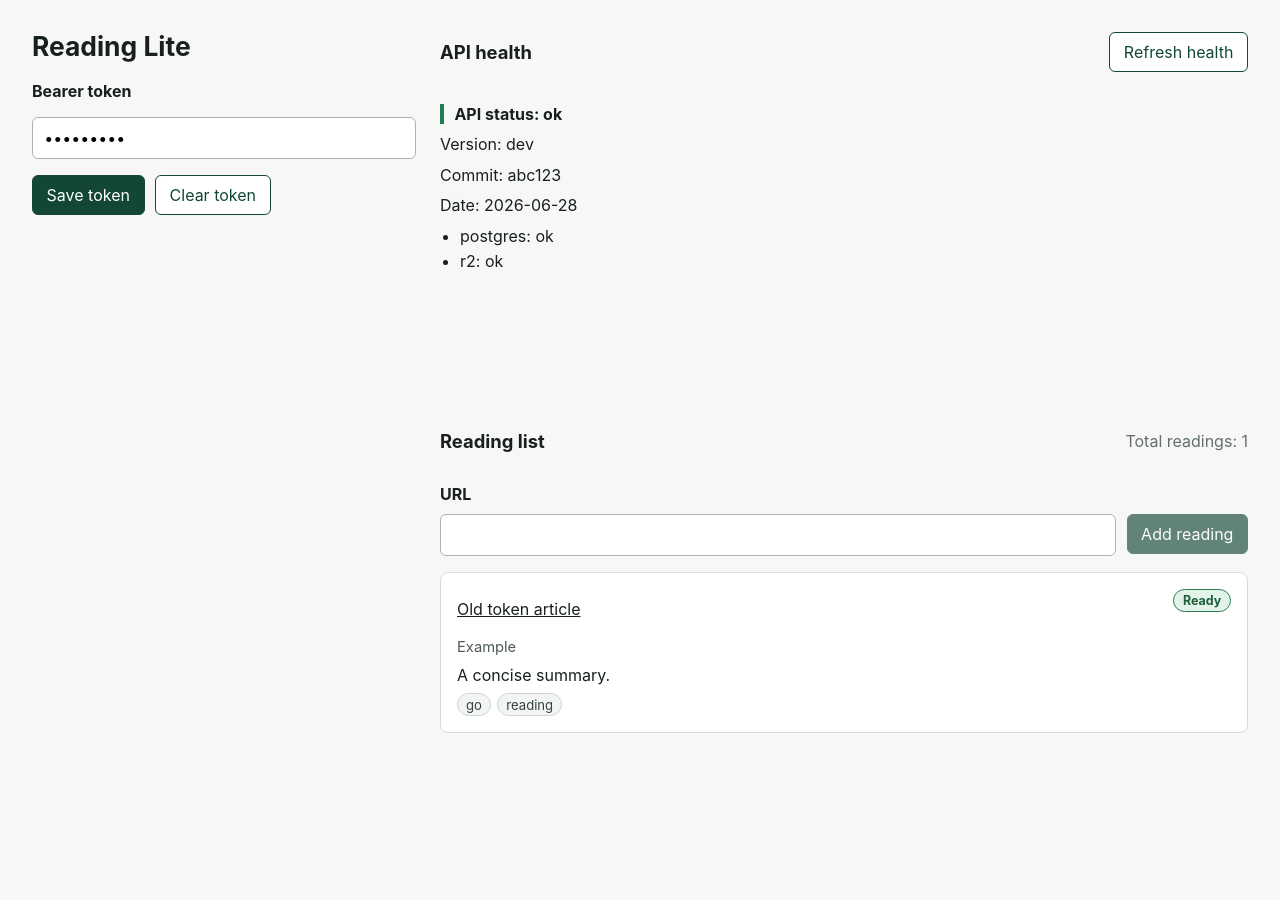
Scenario: App › saves a changed token, trims it, and reloads readings with the new token
The image size is (1280, 900).
Expected: the button "Old token article" is shown, [457,589,580,629]
Type "  new-token  " into the password field labelled "Bearer token" at (224, 138), box [32,117,416,159]
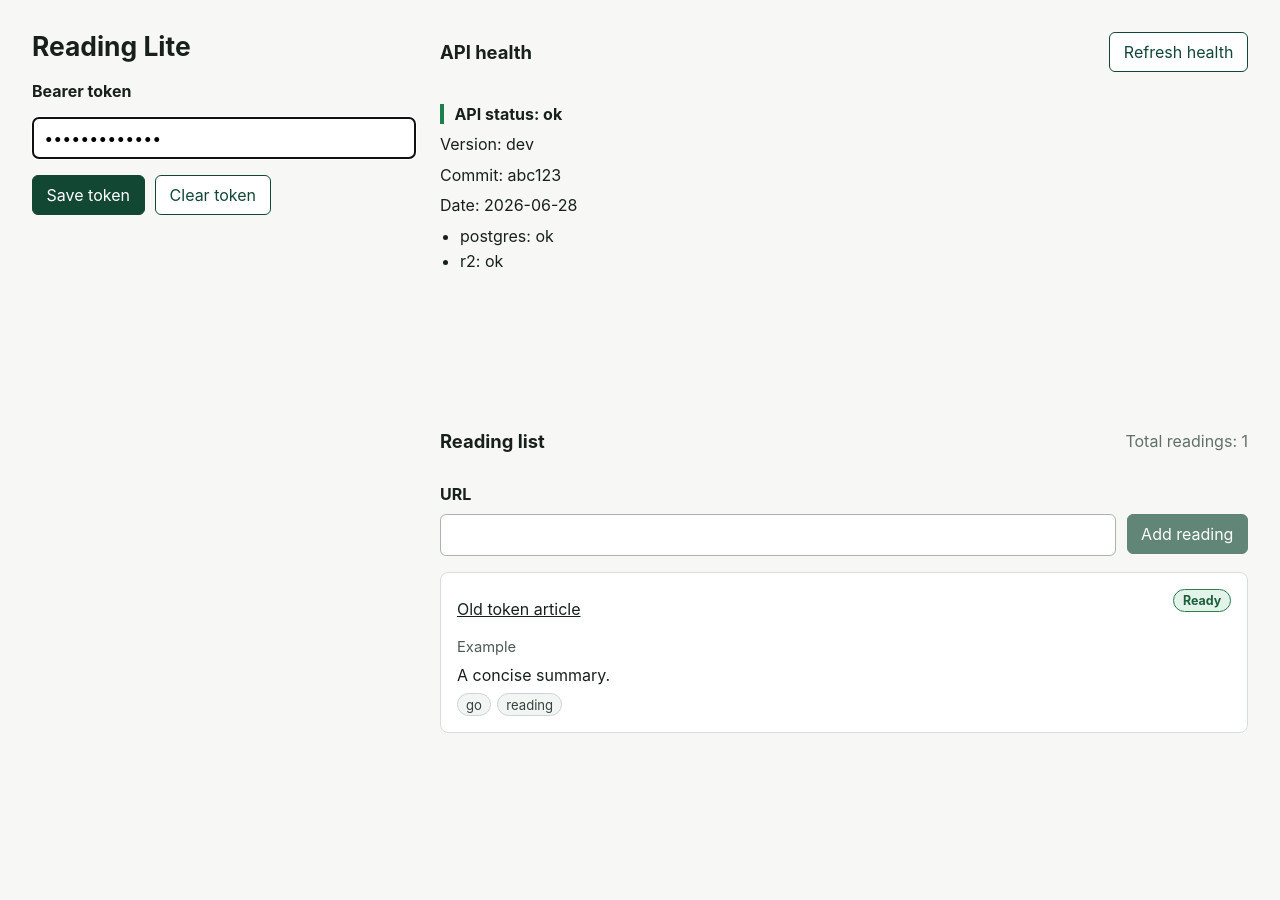
Click the button "Save token" at (88, 195), box [32,175,145,215]
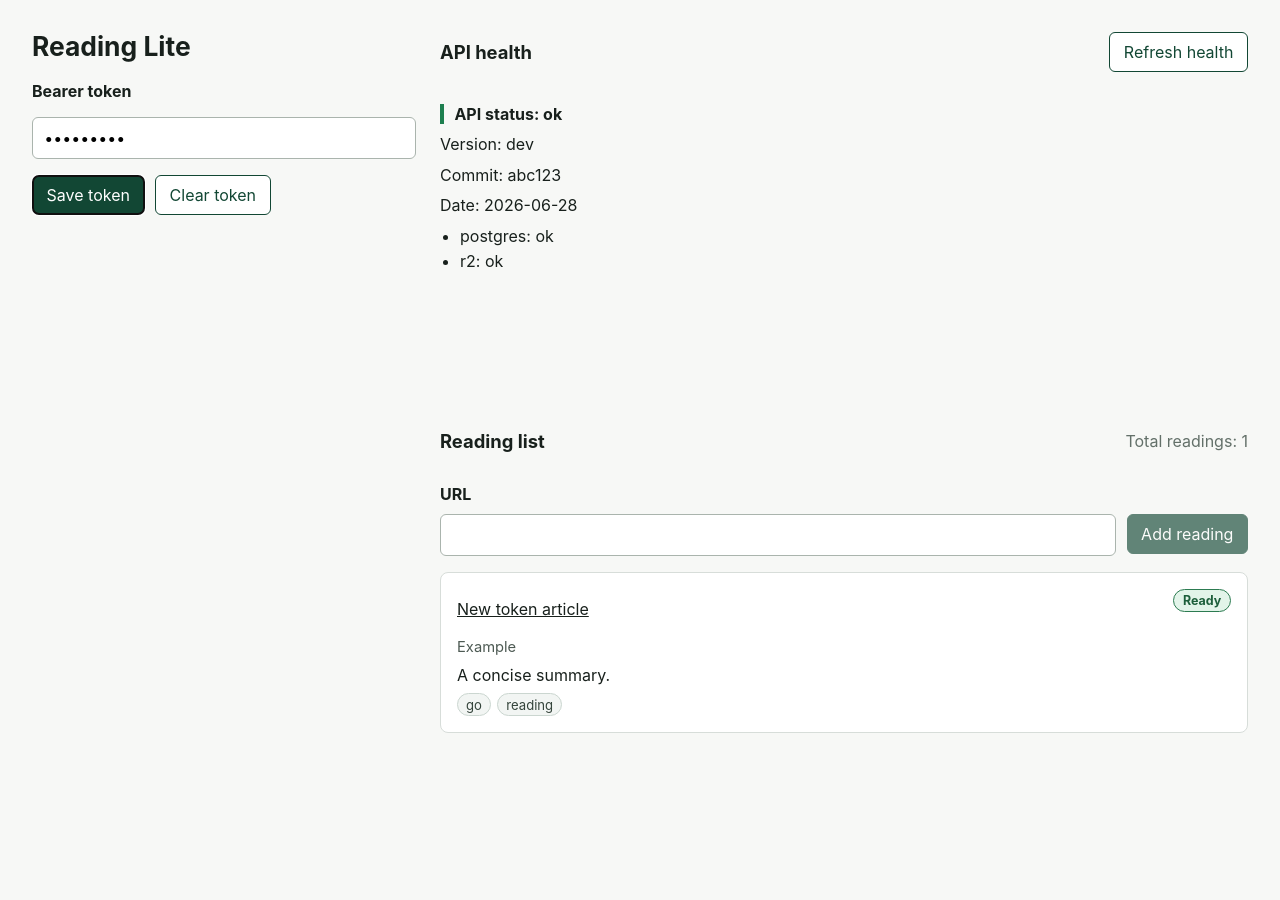
Expected: the button "New token article" is shown, [457,589,589,629]
Expected: the button "Old token article" is gone
